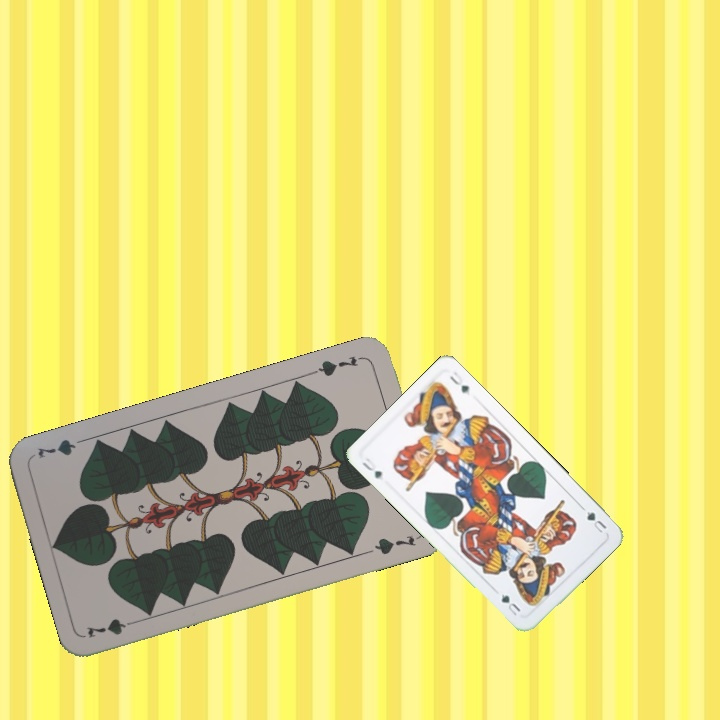G7: (83, 614, 142, 641), (308, 352, 366, 379)
GU: (578, 503, 609, 536), (358, 454, 385, 481)
